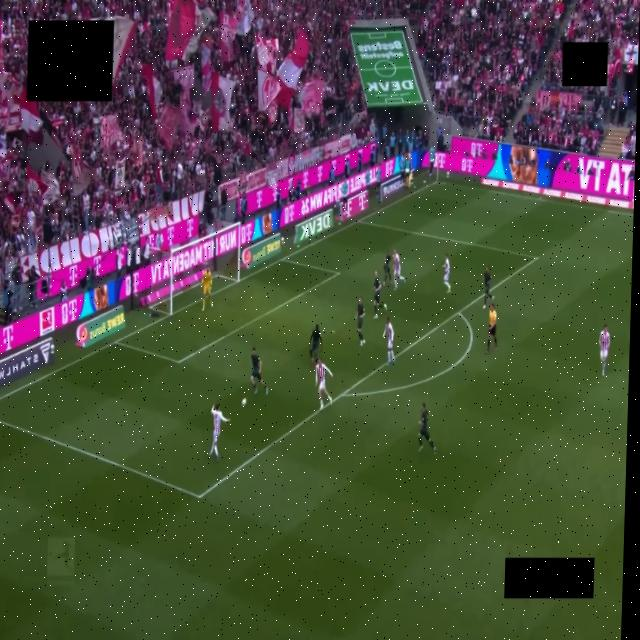ball: (241, 399, 245, 407)
player: (208, 405, 229, 459), (418, 403, 435, 454), (315, 360, 332, 409), (251, 348, 267, 394), (373, 271, 386, 319), (392, 249, 405, 290), (382, 317, 393, 364), (599, 325, 609, 375), (201, 266, 212, 311), (309, 324, 321, 365), (356, 297, 364, 346), (483, 267, 492, 308), (383, 250, 391, 286), (443, 254, 450, 293)
referee: (485, 304, 497, 354)
